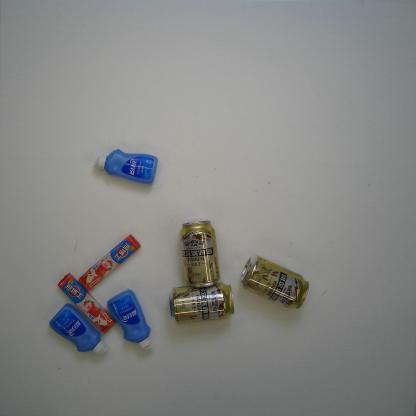Alcohol: (240, 255, 311, 309), (168, 282, 235, 326), (180, 220, 221, 288)
Candy: (57, 272, 117, 334), (78, 234, 142, 292)
Personal Hygiene: (48, 302, 108, 356), (107, 289, 154, 352), (93, 149, 158, 184)
